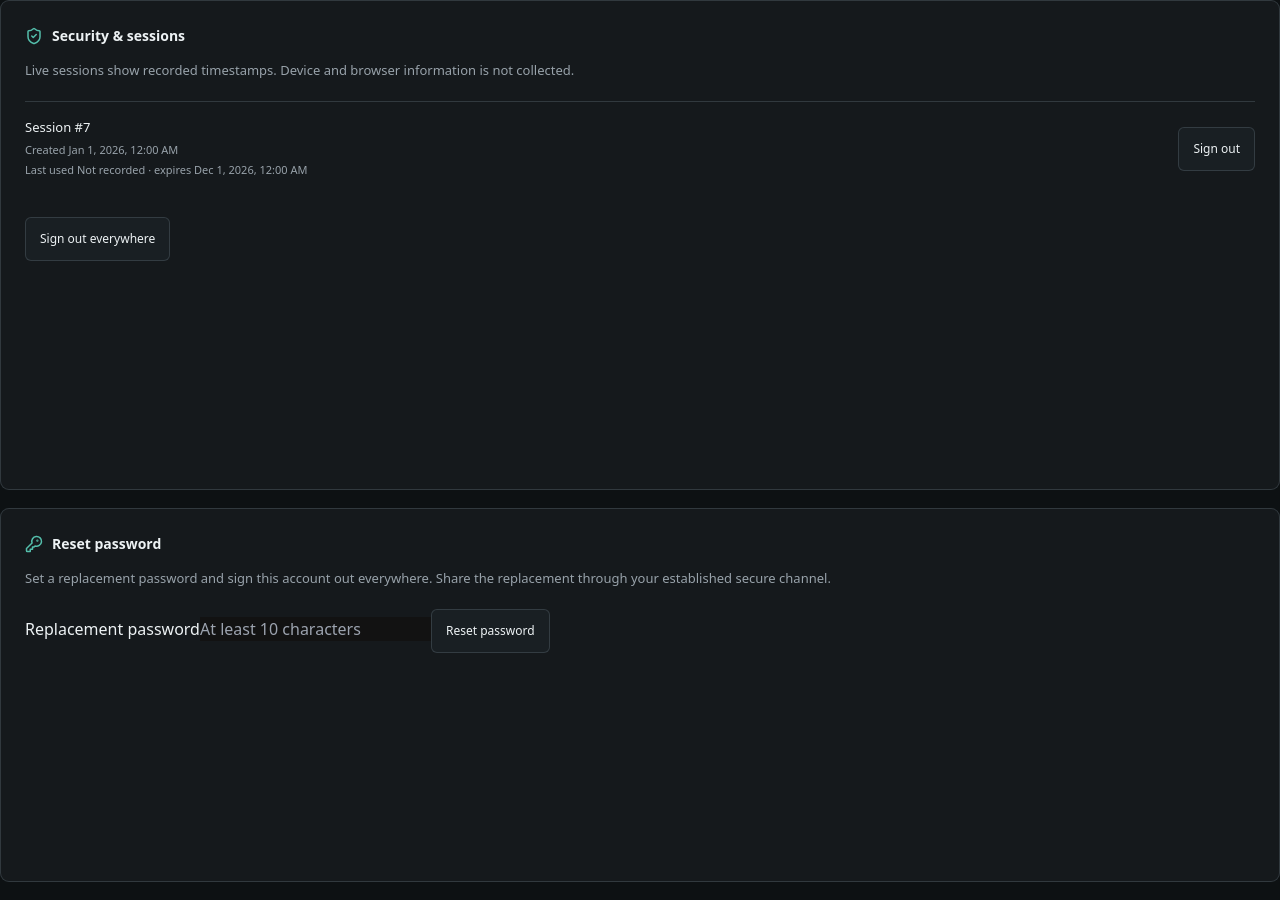
Test: confirms a single session revocation and keeps the session on failure
Click the button "Sign out": (1217,149) [1178,127,1255,171]
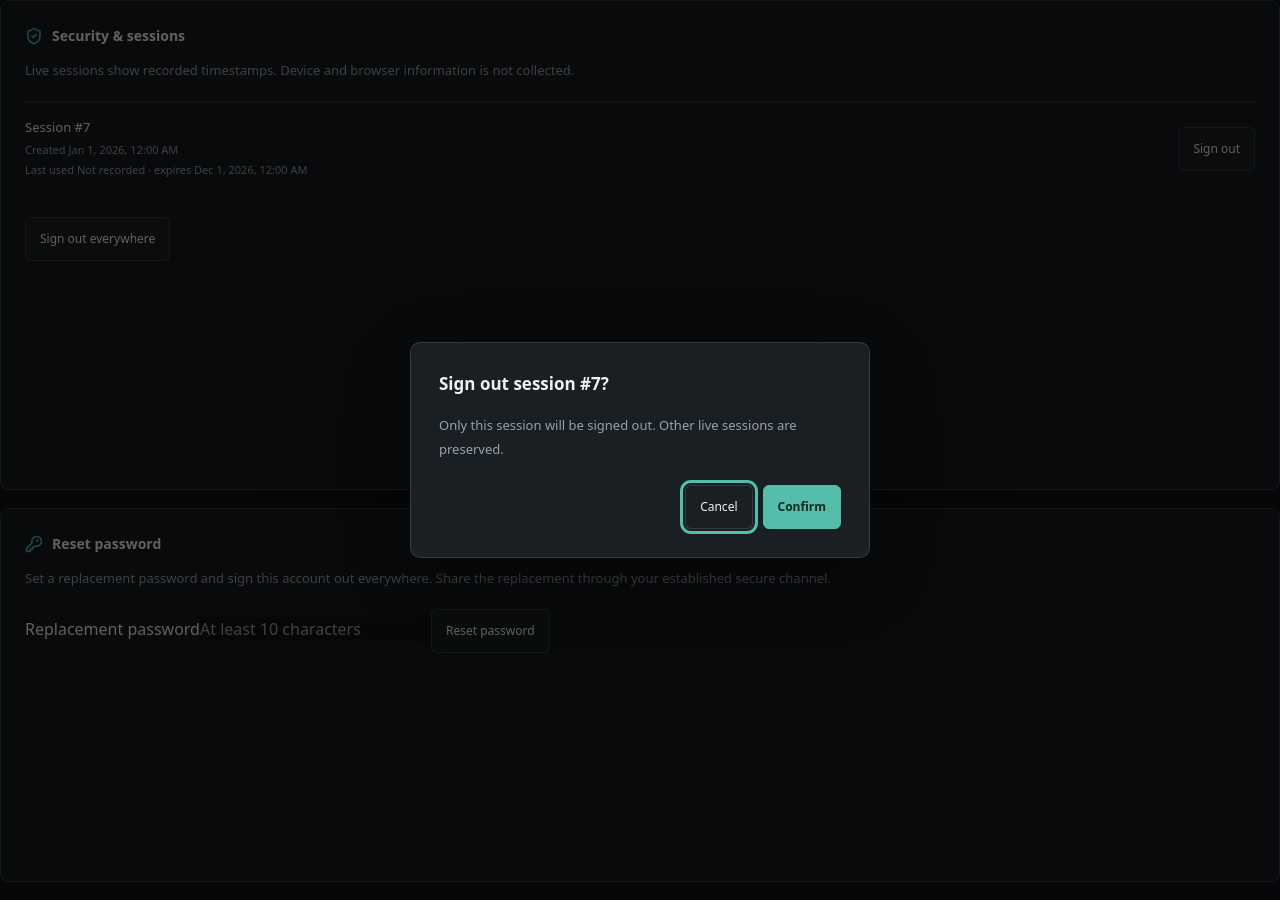
Click the button "Confirm": (802,507) [762,485,841,529]
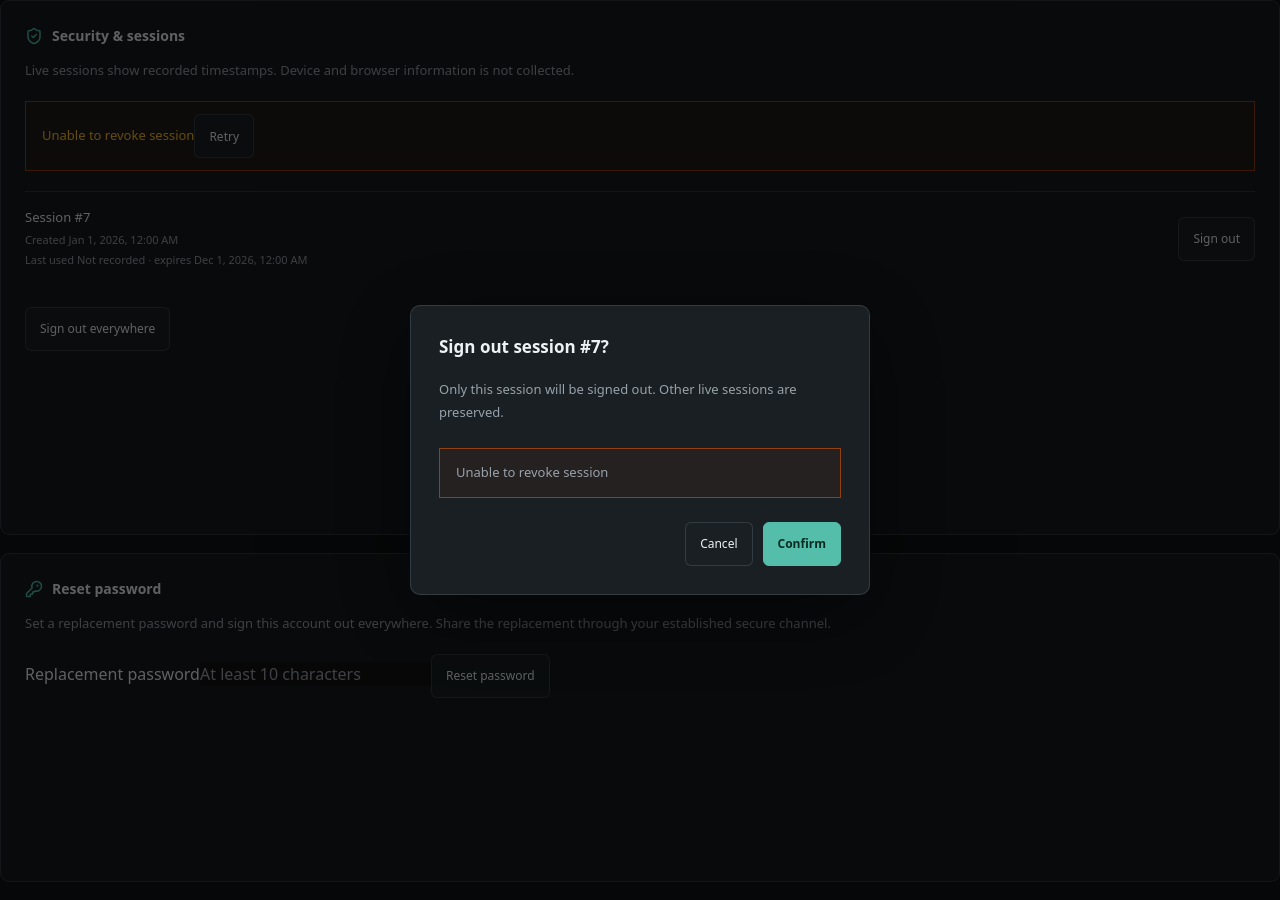
Expected: the text "Session #7" is shown, [25,208,90,226]
Expected: the dialog is shown, [410,305,870,595]
Expected: the message "Unable to revoke session Retry" is shown, [25,102,1255,172]
